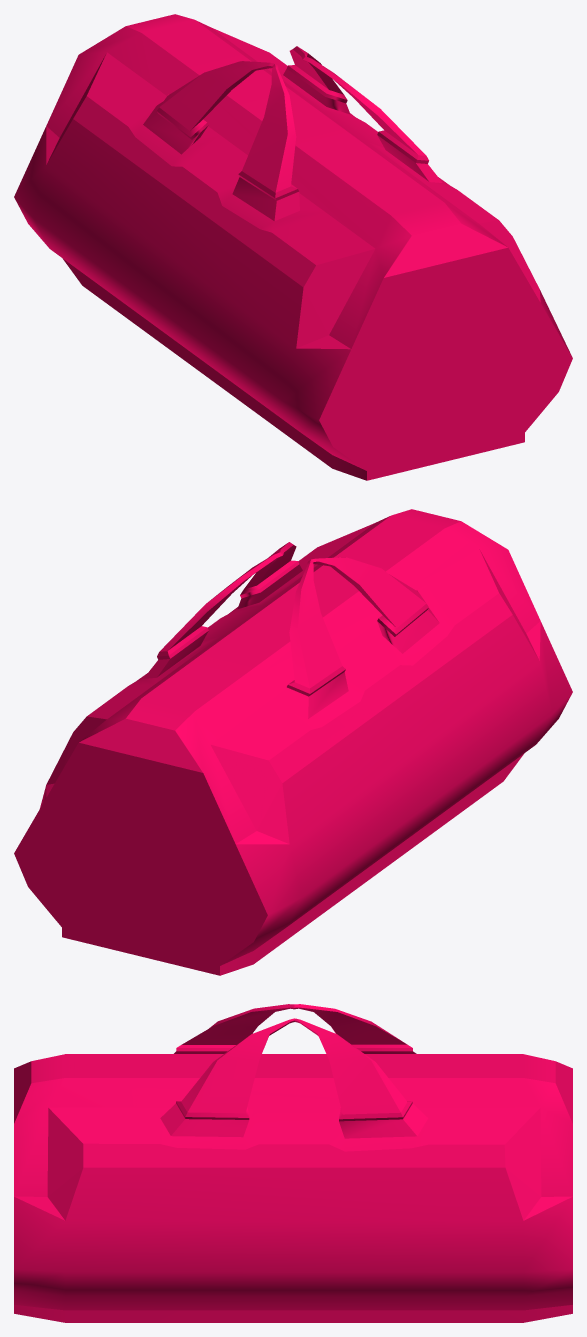
File: BagMesh.fbx
3 views of the same model, one above another, from view 1: azimuth 30°, elevation 25°; view 2: azimuth 150°, elevation 25°; view 3: azimuth 270°, elevation 25° (orthographic). The views are drawn at different scales.
Visible parts, largest first — view 1: BagMesh; view 2: BagMesh; view 3: BagMesh.
Part boxes in pixels (<box>): BagMesh: <box>14,14,572,480</box>; BagMesh: <box>14,509,572,975</box>; BagMesh: <box>14,1004,572,1322</box>.
Bounding box in the file's own units: 0.865 × 0.914 × 1.7.
